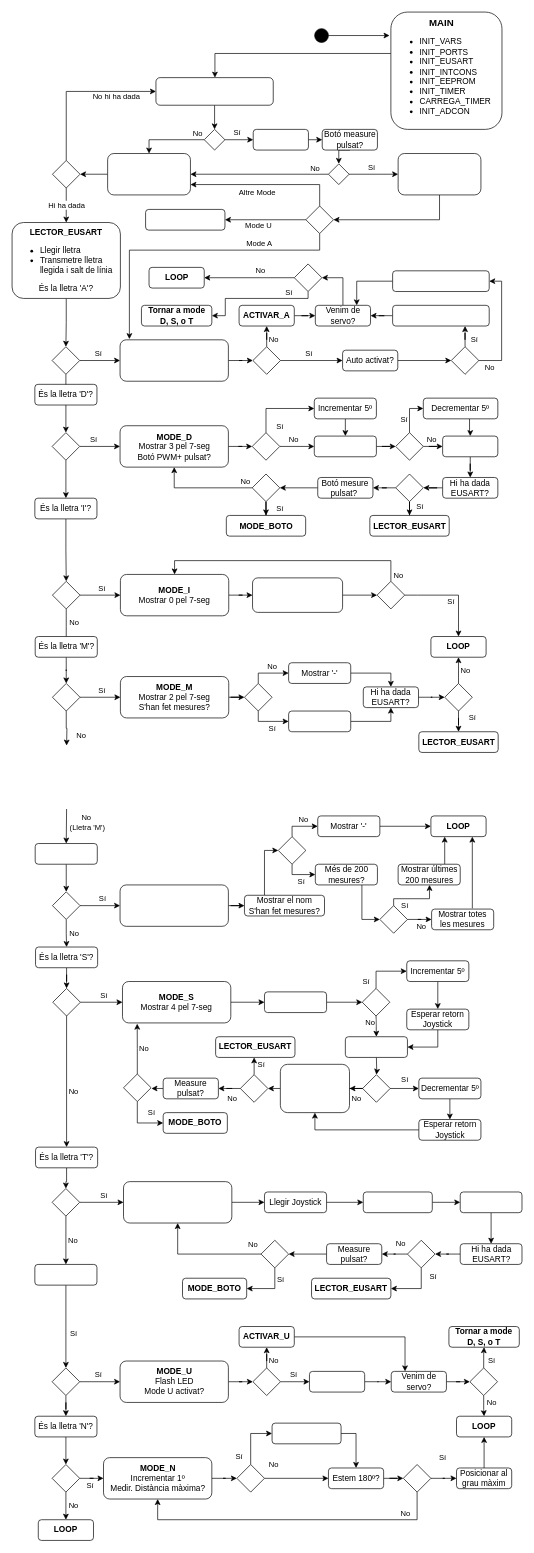
The diagram is 534 pixels wide and 1553 high, and some of its shapes have lost their labels. Each missing label, with the centre of its shape:
"ACTVIAR_AUTO" goes at (x=440, y=281).
"Botó PWM- pulsat?" goes at (x=345, y=446).
"Control reboots" goes at (x=280, y=139).
"DESACTVIAR_AUTO" goes at (x=440, y=315).
"Guardar modeAnterior" goes at (x=491, y=1202).
"Guardar modeAnterior. Hi ha dada EUSART?" goes at (x=314, y=1088).
"Guardar màxim" goes at (x=306, y=1433).
"Guardem modeAnterior" goes at (x=470, y=446).
"Llegir Joystick ADC < 5?" goes at (x=376, y=1046).
"Llegir Joystick ADC > 250?" goes at (x=295, y=1002).
"Llegir lletra i escriure EEPROM És '\r'?" goes at (x=297, y=594).
"LOOP Botó measure pulsat?" goes at (x=214, y=91).
"Medir" goes at (x=337, y=1381).
"MODE_A Mostrar 7 pel 7-seg Ja hem entrat al Mode A?" goes at (x=173, y=360).
"MODE_BOTO Últim mode activat?" goes at (x=439, y=174).
"MODE_R Mostrar 1 pel 7-seg" goes at (x=173, y=905).
"MODE_T Mostrar 5 pel 7-seg" goes at (x=177, y=1202).
"MODE_U" goes at (x=185, y=219).
"Mostrar última mesura" goes at (x=319, y=721).
"NEXT_LOOP Mirar si hi ha dada a l'EUSART" goes at (x=148, y=174).
"Regla de 3 i posicionar servo" goes at (x=397, y=1202).
"És la lletra 'R'?" goes at (x=65, y=853).
"És la lletra 'U'?" goes at (x=65, y=1274).
